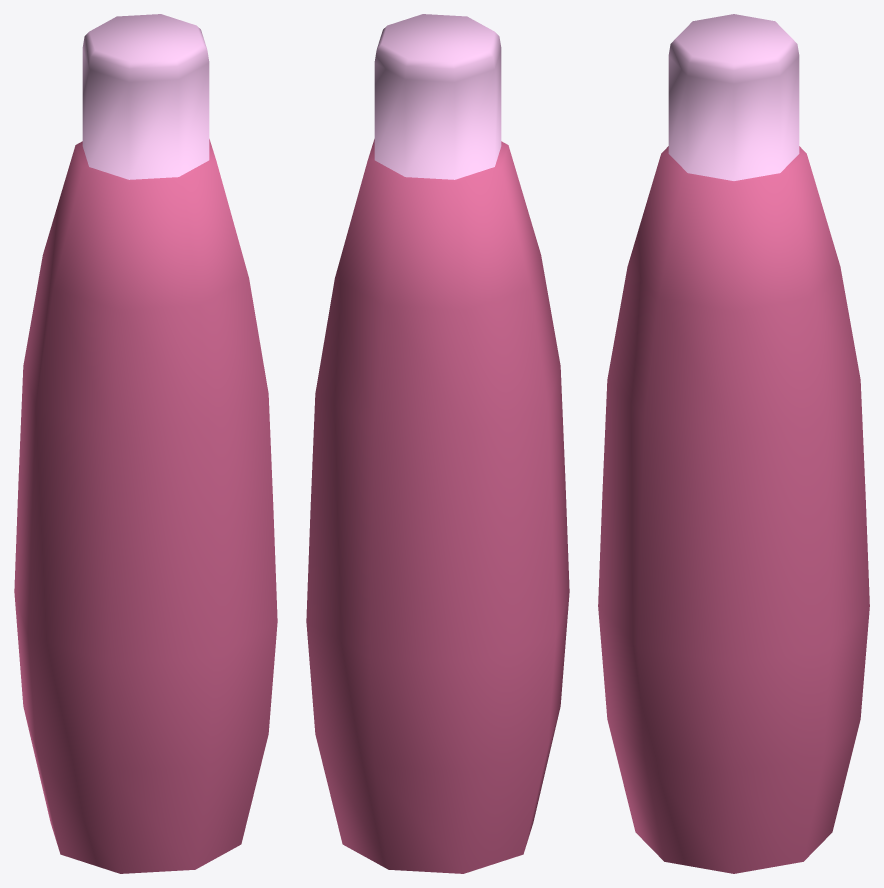
Rendered from bottle.fbx.
3 views of the same model, side by side, from view 1: azimuth 30°, elevation 25°; view 2: azimuth 150°, elevation 25°; view 3: azimuth 270°, elevation 25° (orthographic).
Parts seen in each view (by area): view 1: bottle; view 2: bottle; view 3: bottle.
Part boxes in pixels (<box>): bottle: <box>14,14,277,873</box>; bottle: <box>306,14,569,873</box>; bottle: <box>598,14,869,873</box>.
Size of the model in its own units: 0.2553 by 0.8225 by 0.2553.
